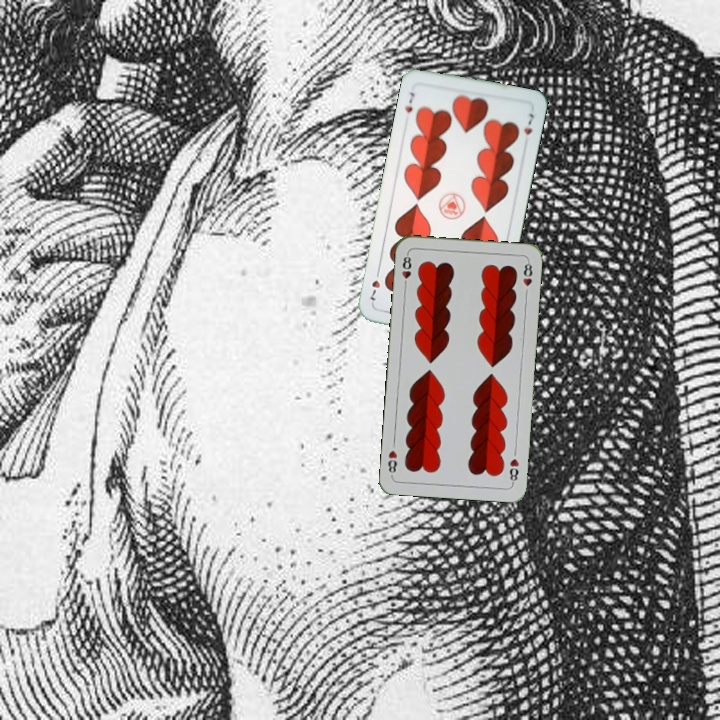H7: (401, 88, 417, 115)
H8: (398, 250, 414, 290), (505, 454, 521, 486)
